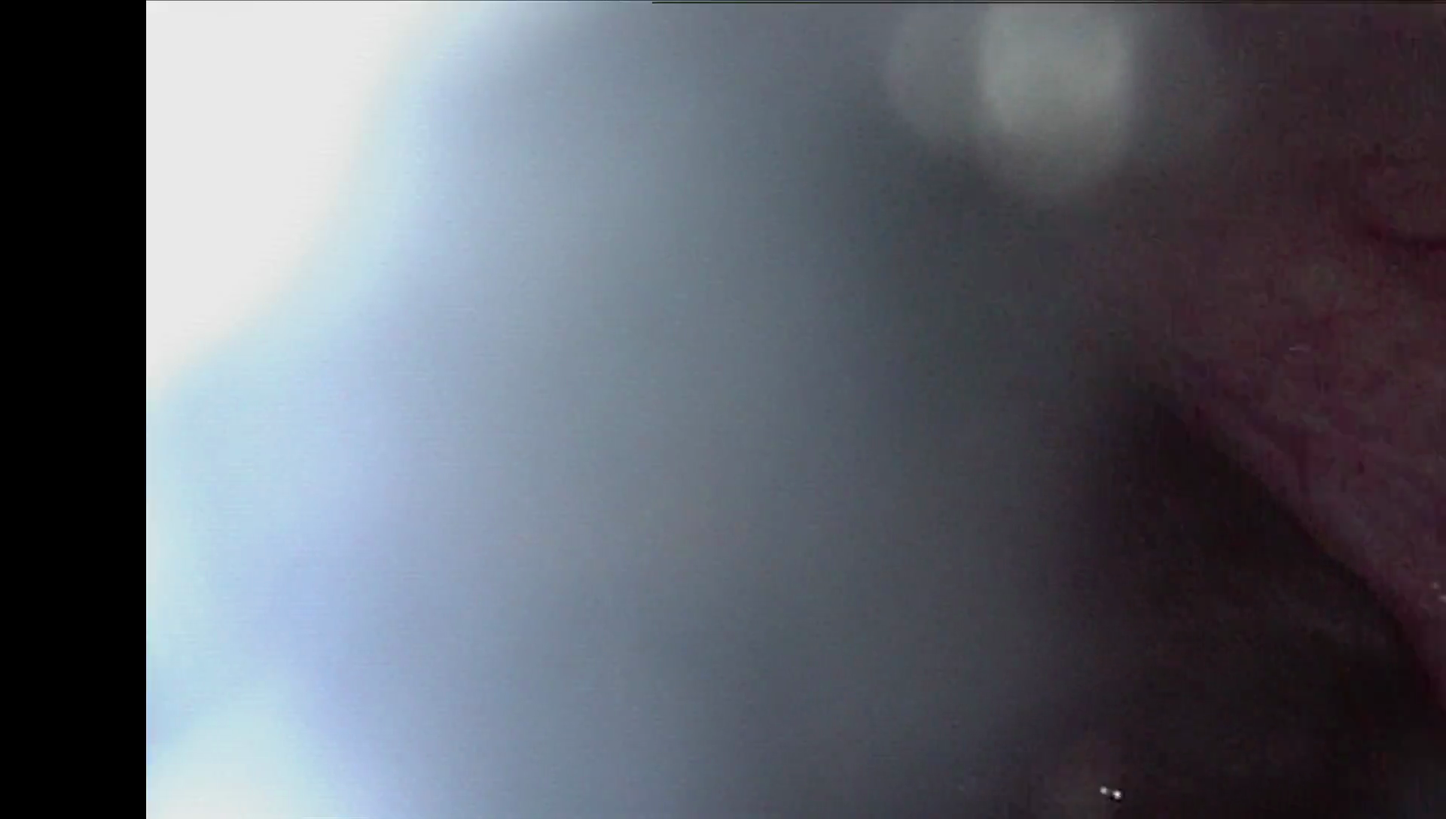next: (982, 287, 1446, 819)
